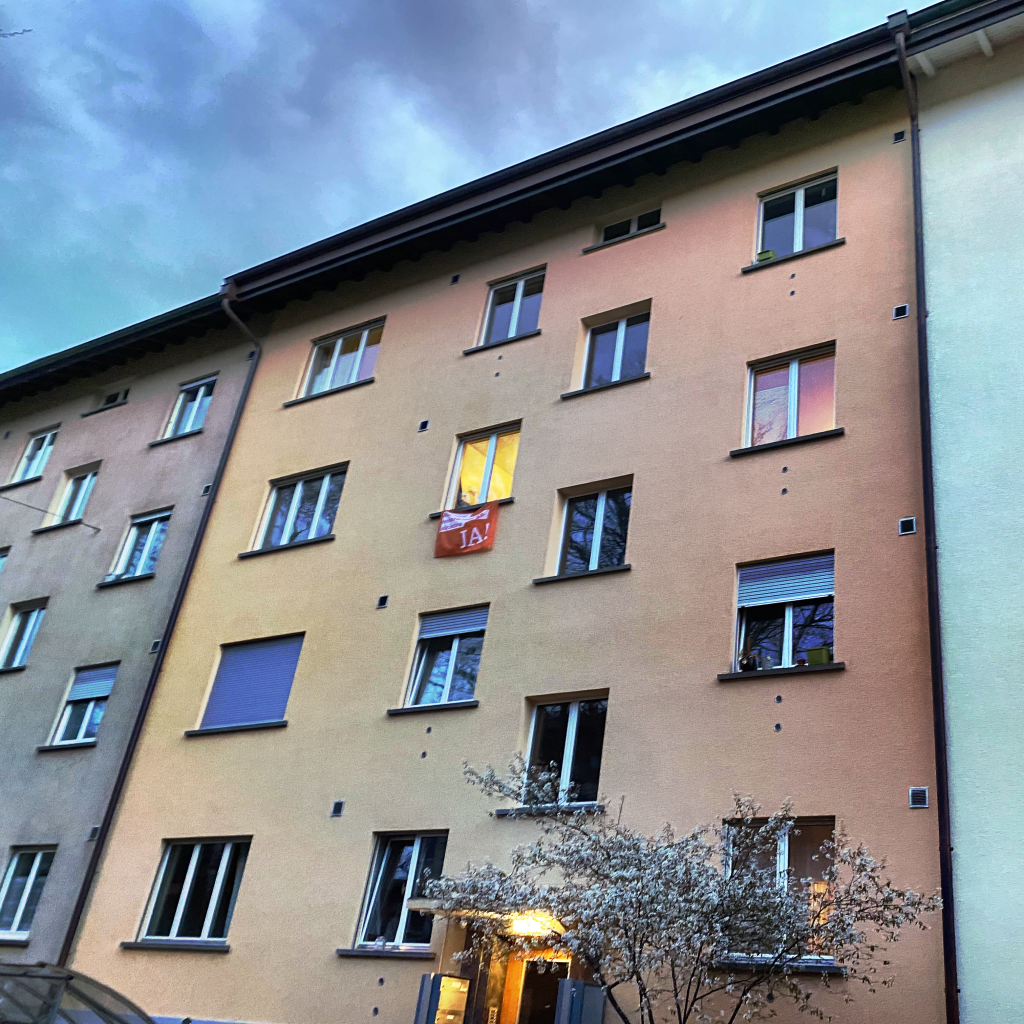glass_panel: (362, 838, 412, 942), (788, 821, 832, 925), (178, 843, 224, 936), (147, 844, 193, 936), (208, 842, 247, 937), (571, 699, 606, 800), (751, 364, 789, 445), (738, 605, 784, 670), (559, 495, 597, 573), (797, 355, 834, 435), (18, 851, 54, 932), (412, 636, 453, 704), (0, 852, 35, 931), (597, 488, 631, 568), (788, 822, 833, 881), (530, 703, 569, 770), (793, 598, 832, 664), (455, 437, 489, 508), (448, 632, 483, 700), (286, 477, 322, 542), (803, 178, 836, 248), (487, 431, 519, 500), (263, 484, 297, 548), (411, 835, 446, 897), (584, 323, 617, 386), (761, 193, 794, 255), (313, 472, 344, 536), (484, 284, 516, 343), (620, 313, 649, 378), (0, 611, 30, 667), (515, 274, 543, 333), (331, 331, 361, 386), (139, 519, 169, 574), (355, 326, 383, 380), (121, 523, 150, 575), (307, 342, 336, 393), (56, 476, 86, 521), (170, 388, 198, 434), (58, 701, 88, 741), (188, 381, 212, 429), (82, 699, 106, 738), (602, 219, 630, 241), (638, 209, 660, 230)
